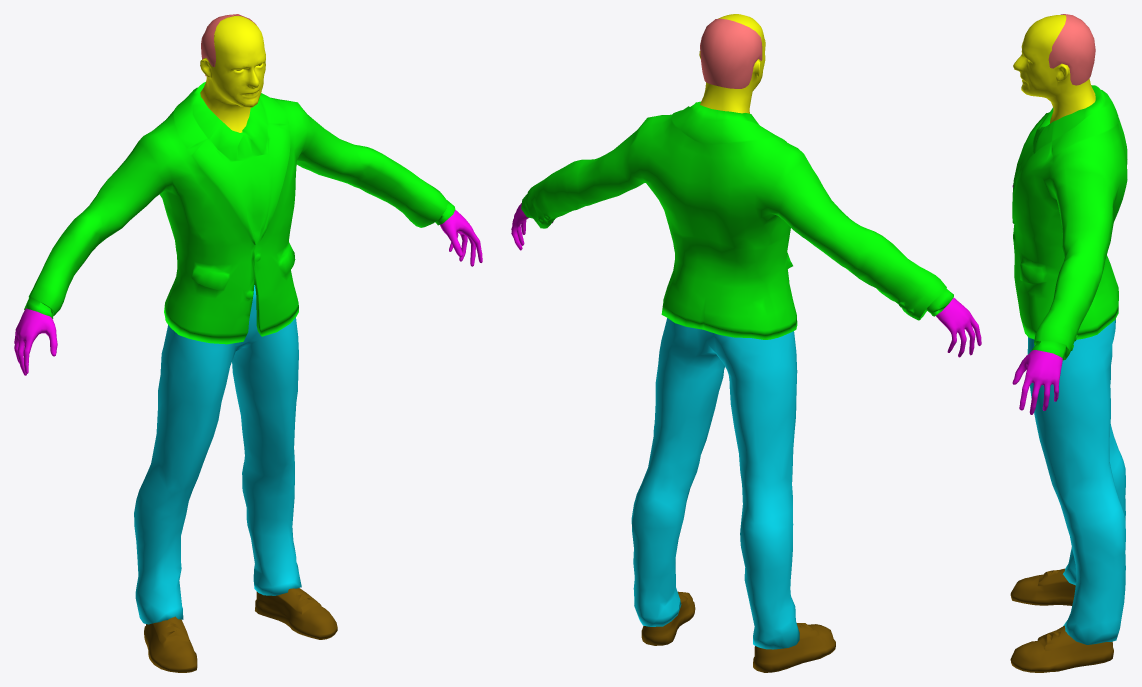
File: villain_Low.fbx
The picture shows the model from 3 angles, left to right: view 1: azimuth 30°, elevation 25°; view 2: azimuth 150°, elevation 25°; view 3: azimuth 270°, elevation 25°; orthographic projection.
Parts seen in each view (by area): view 1: Suit_Low, Pants_Low, Head_Low, Shoes_Low, Hand_Low; view 2: Suit_Low, Pants_Low, Hair_Low, Shoes_Low, Head_Low, Hand_Low; view 3: Suit_Low, Pants_Low, Shoes_Low, Head_Low, Hair_Low, Hand_Low.
Part boxes in pixels (x1,y1,x2,y2): Suit_Low: (24,82,455,344); Pants_Low: (134,285,301,624); Head_Low: (200,16,265,132); Shoes_Low: (144,588,337,672); Hand_Low: (14,210,482,375); Suit_Low: (521,101,953,339); Pants_Low: (631,318,799,649); Hair_Low: (700,18,762,88); Shoes_Low: (641,591,835,672); Head_Low: (699,14,765,113); Hand_Low: (511,203,981,357); Suit_Low: (1012,85,1127,360); Pants_Low: (1027,319,1125,644); Shoes_Low: (1010,568,1113,672); Head_Low: (1013,15,1095,123); Hair_Low: (1048,14,1095,85); Hand_Low: (1012,185,1062,414).
Bounding box in the file's own units: 219 × 283 × 48.98.
